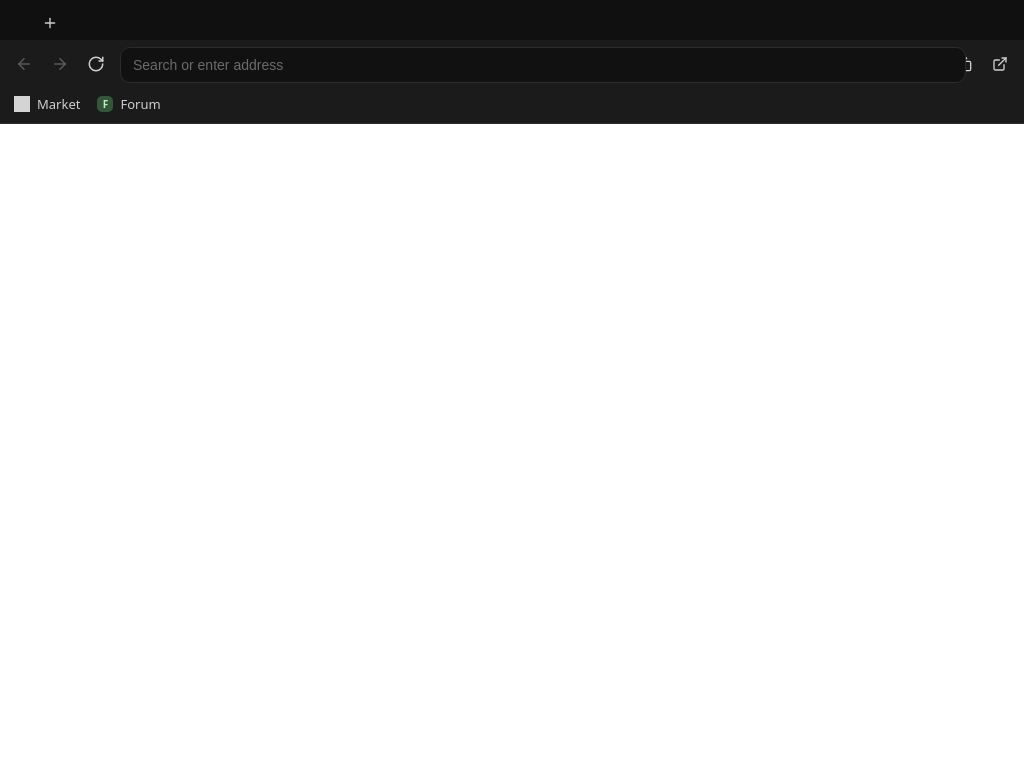
Test: BookmarksBar › drops the edit on Esc and on Cancel
Right-click the button "F Forum".
right_click(130, 104)  # box [91,91,170,117]
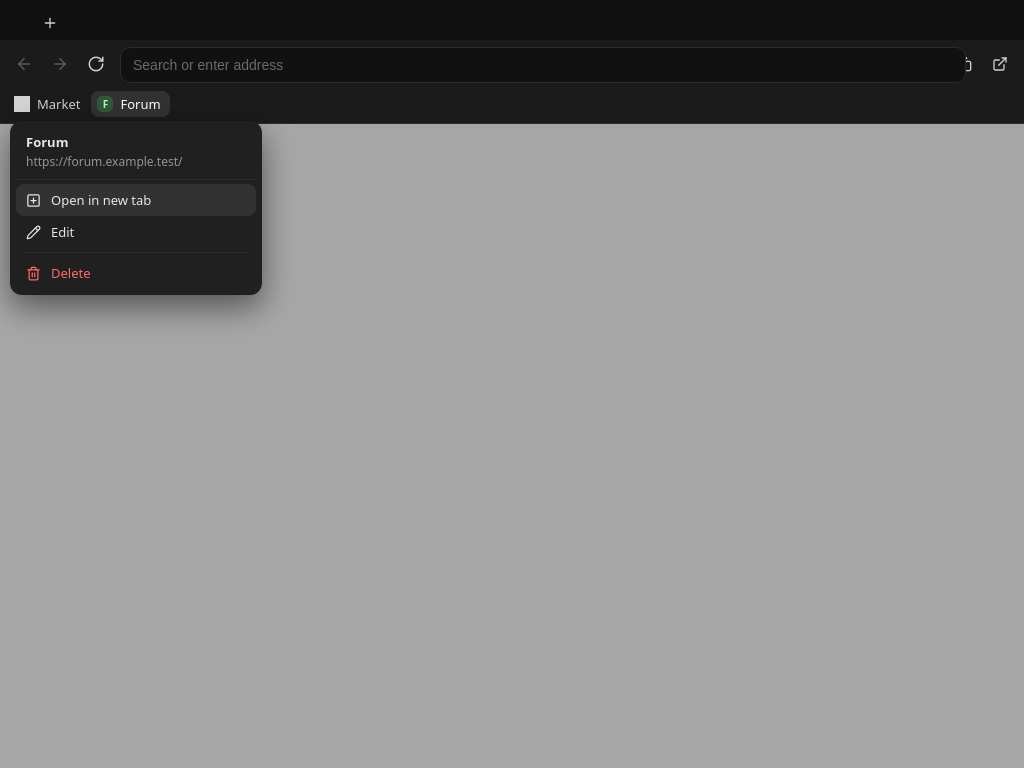
Click the menu item "Edit".
click(136, 232)  # box [16,216,256,248]
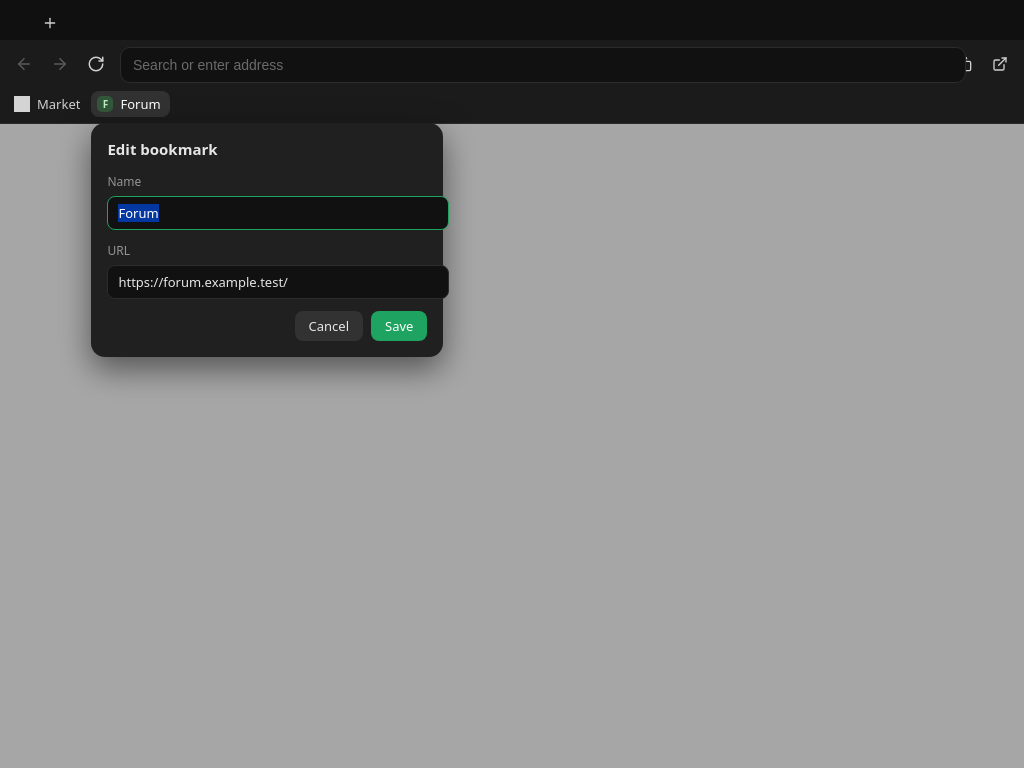
Type keys "Changed{Escape}"
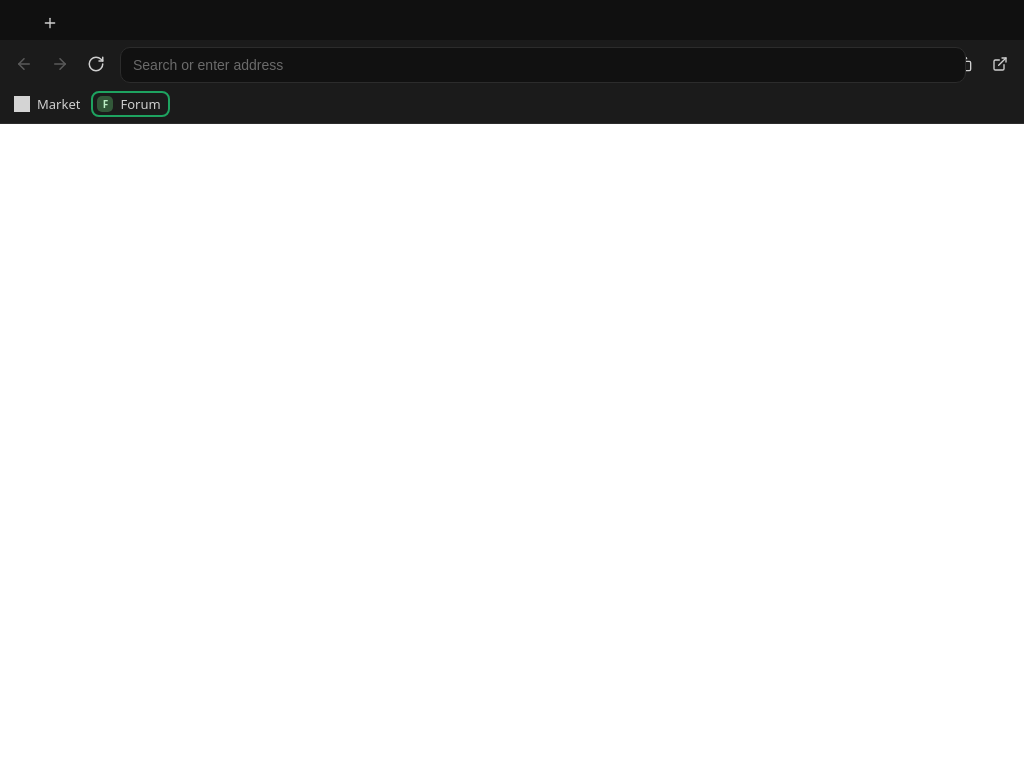
Check: the dialog is gone
Right-click the button "F Forum".
right_click(130, 104)  # box [91,91,170,117]
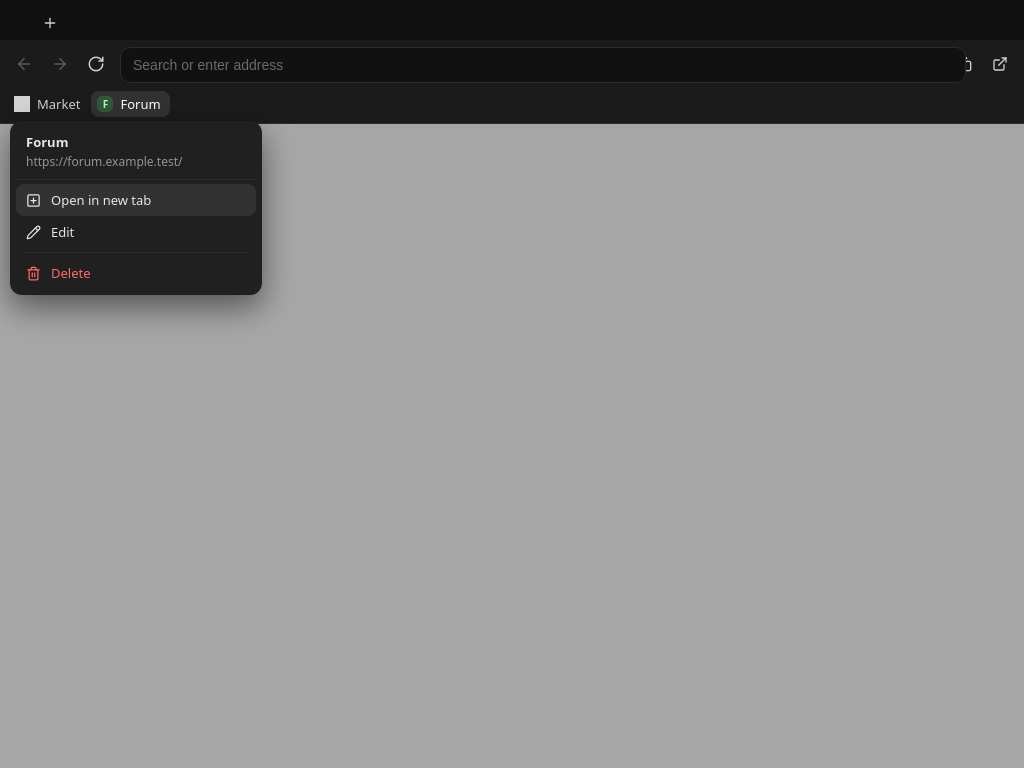
Click the menu item "Edit".
click(136, 232)  # box [16,216,256,248]
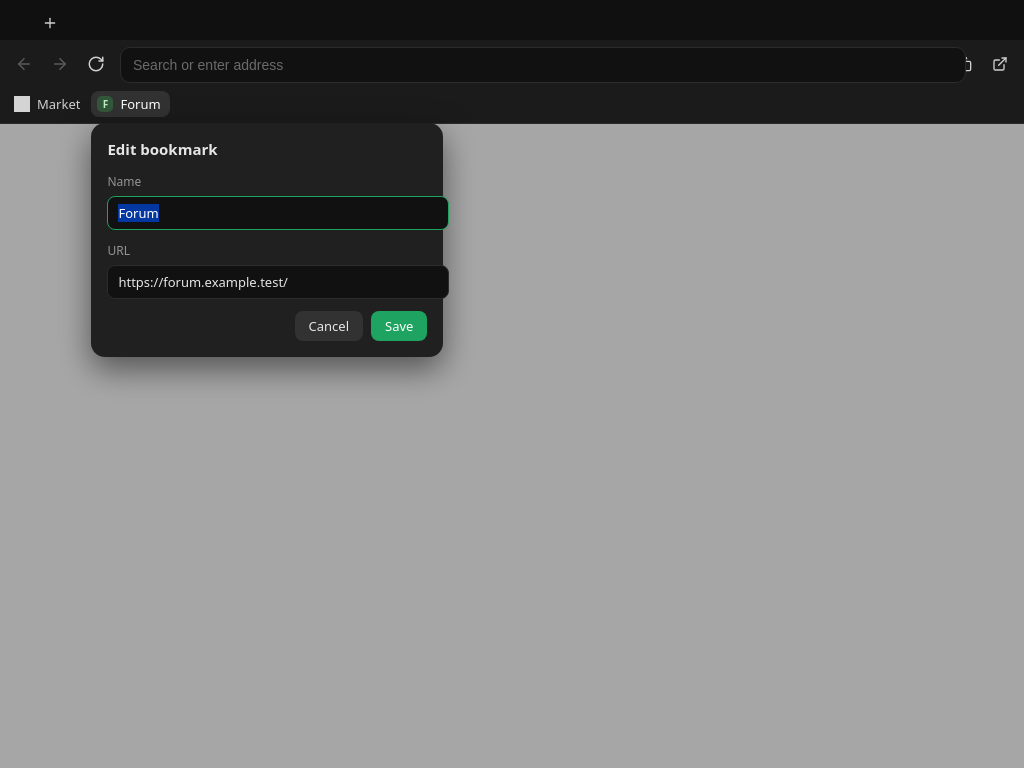
Check: the field labelled "Name" holds "Forum", box [107,196,449,230]
Click the button "Cancel".
click(329, 326)  # box [295,311,363,341]
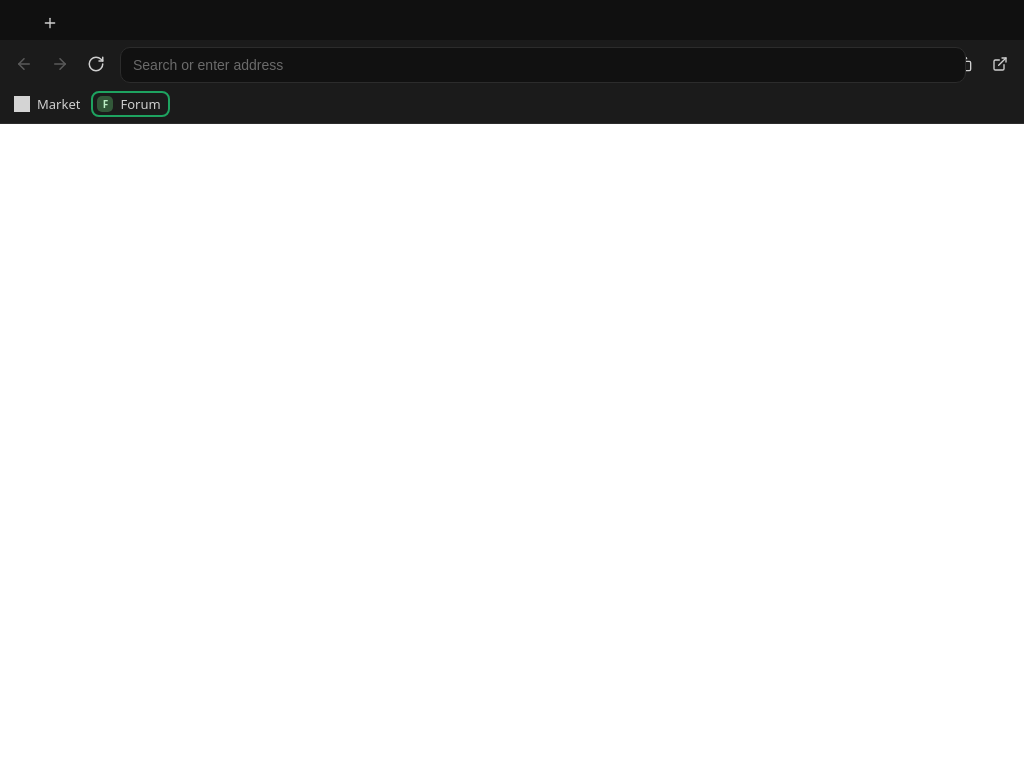
Check: the dialog is gone
